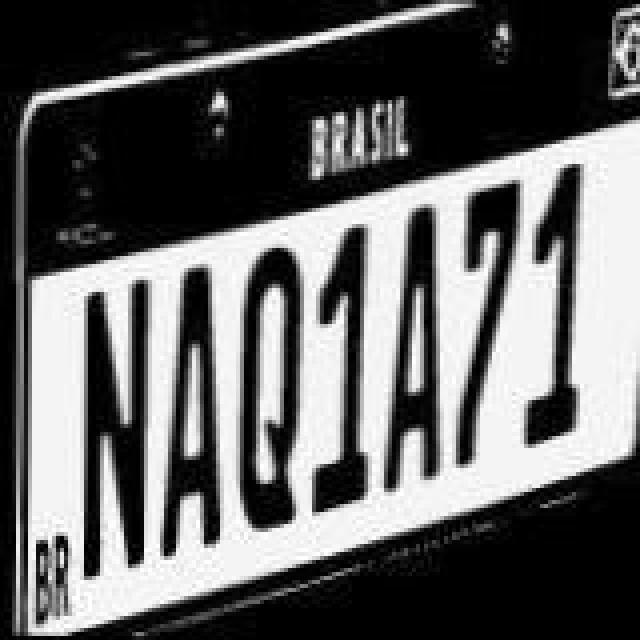1: (520, 166, 596, 450), (312, 212, 380, 508)
7: (452, 186, 528, 474)
A: (154, 252, 230, 552), (376, 200, 444, 484)
N: (74, 272, 150, 576)
Q: (232, 238, 304, 538)
